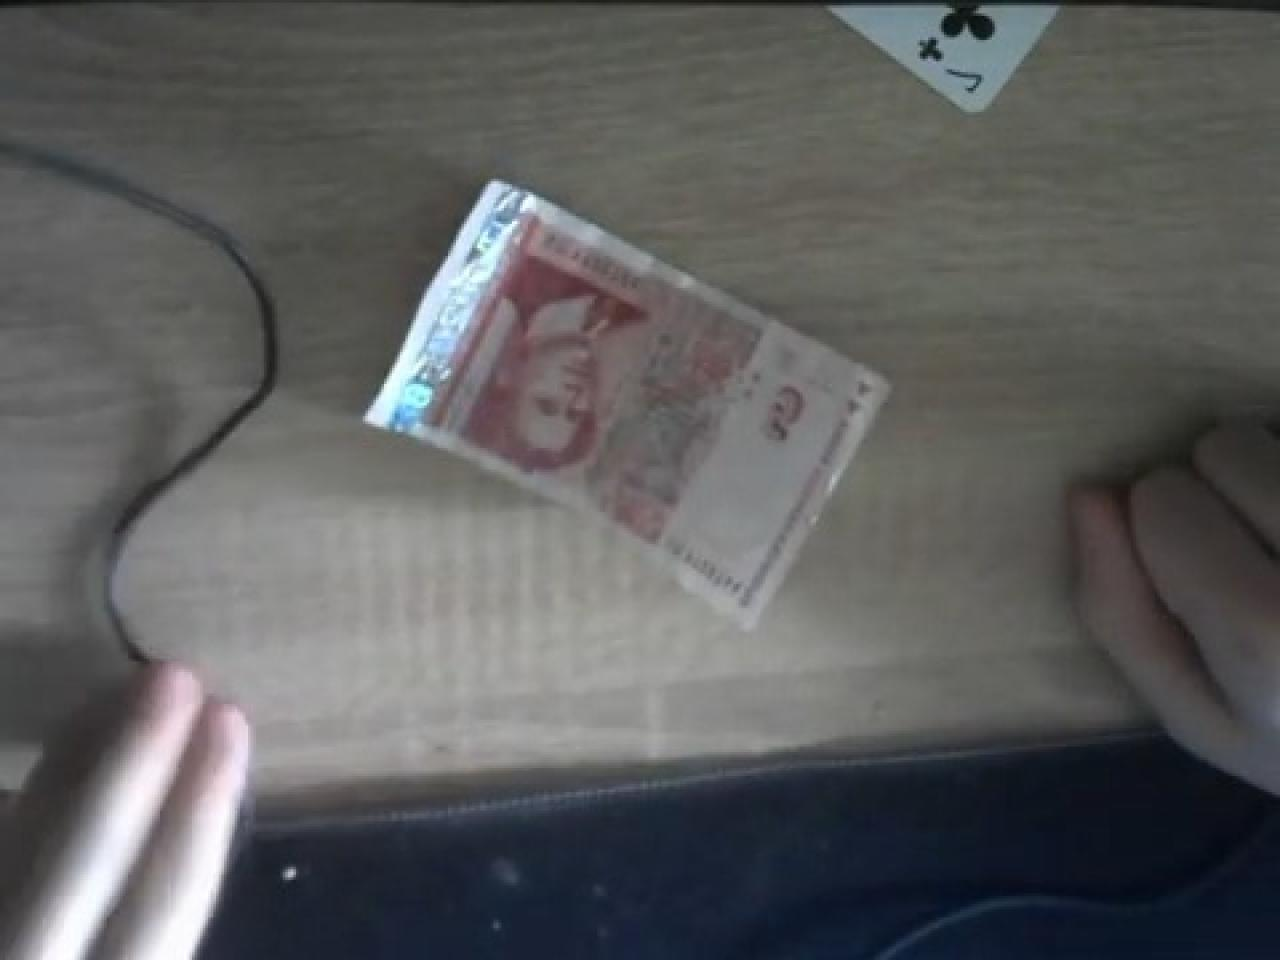5leva: (360, 176, 891, 626)
